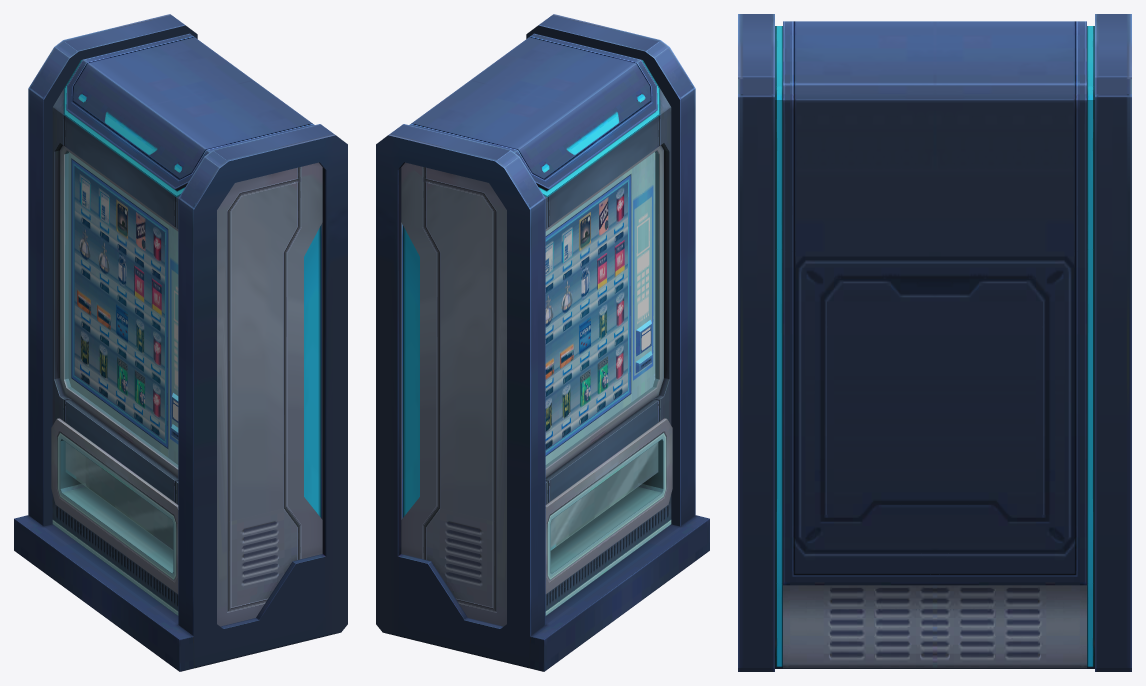
File: my_carrier_01_vendingmachine_01.glb
3 views of the same model, side by side, from view 1: azimuth 30°, elevation 25°; view 2: azimuth 150°, elevation 25°; view 3: azimuth 270°, elevation 25° (orthographic). The views are drawn at different scales.
Visible parts, largest first — view 1: my_carrier_01_vendingmachine_01; view 2: my_carrier_01_vendingmachine_01; view 3: my_carrier_01_vendingmachine_01.
Boxes of the visible parts, x1,y1,x2,y2 form: my_carrier_01_vendingmachine_01: (14, 14, 347, 671); my_carrier_01_vendingmachine_01: (376, 14, 709, 671); my_carrier_01_vendingmachine_01: (738, 14, 1131, 671).
Bounding box in the file's own units: 0.00537 × 0.0152 × 0.00918.
Materials: 2 (2 with a texture image).
